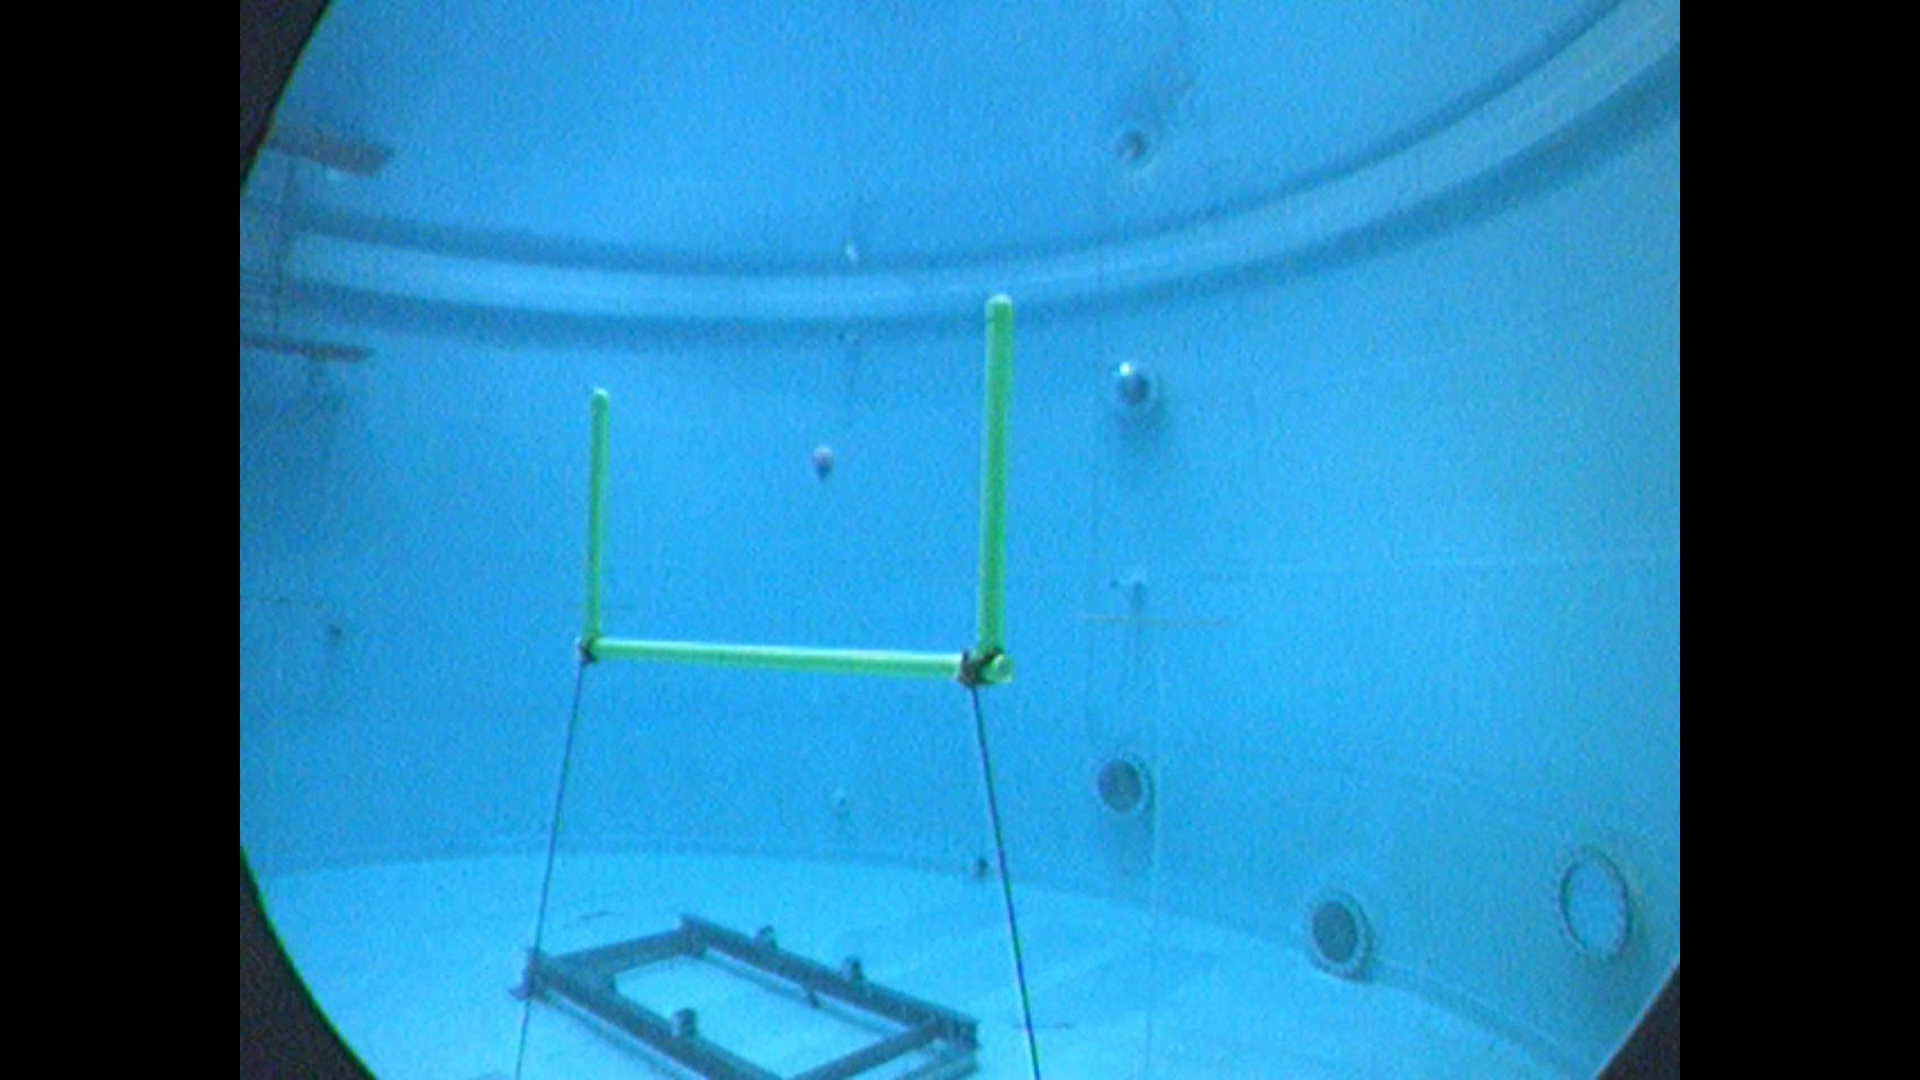gate: (564, 286, 1033, 696)
